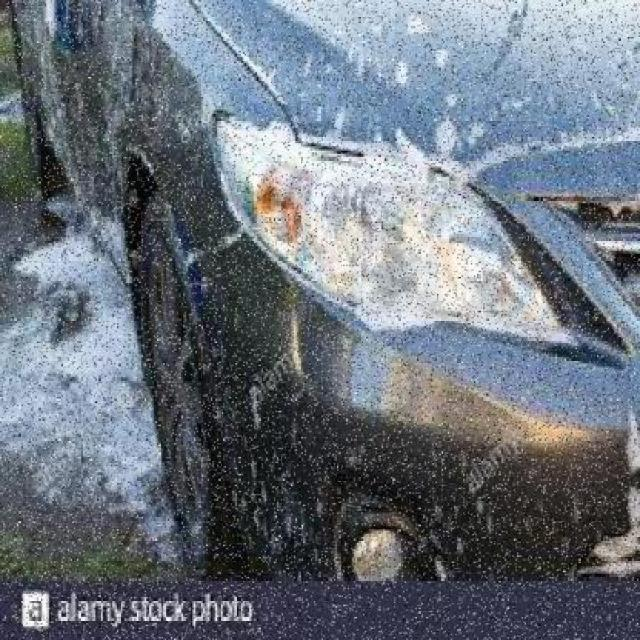Headlight-Damage: (195, 100, 527, 336)
